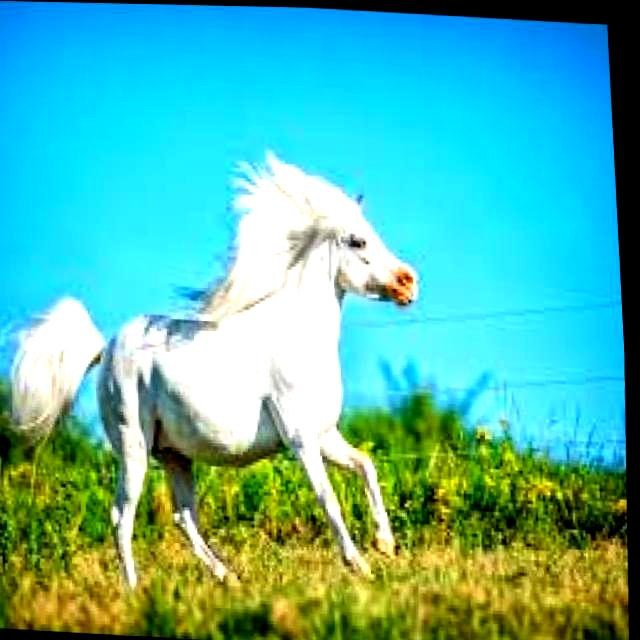horse: (9, 116, 403, 472)
